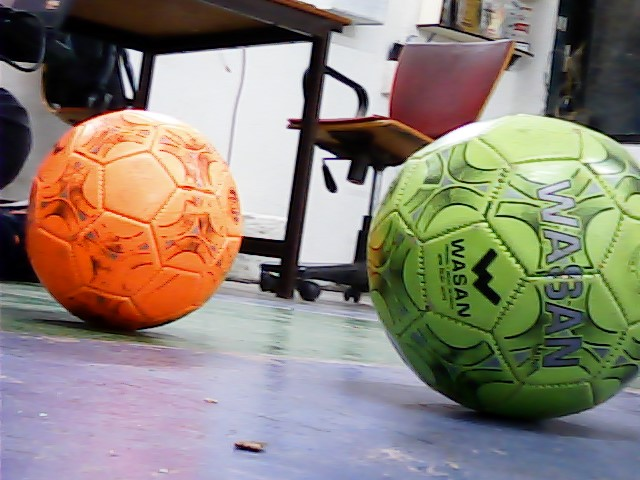Green_ball: (362, 109, 640, 426)
Orange_ball: (26, 105, 240, 337)
